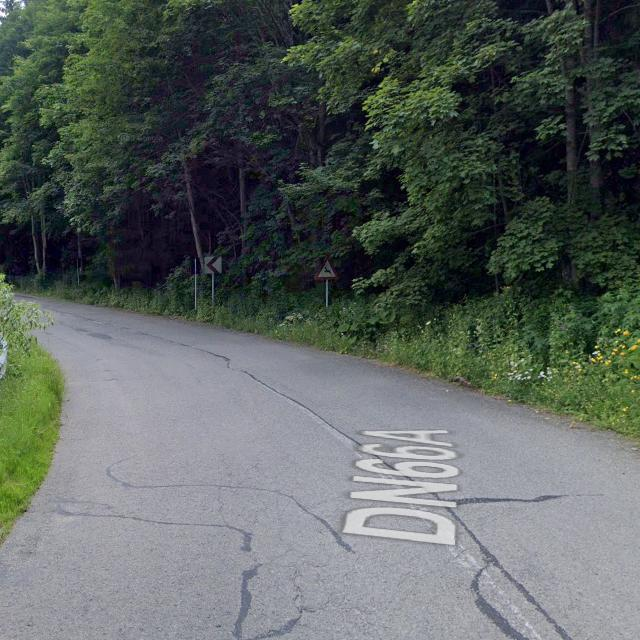warn_poor_road_surface: (314, 256, 338, 280)
